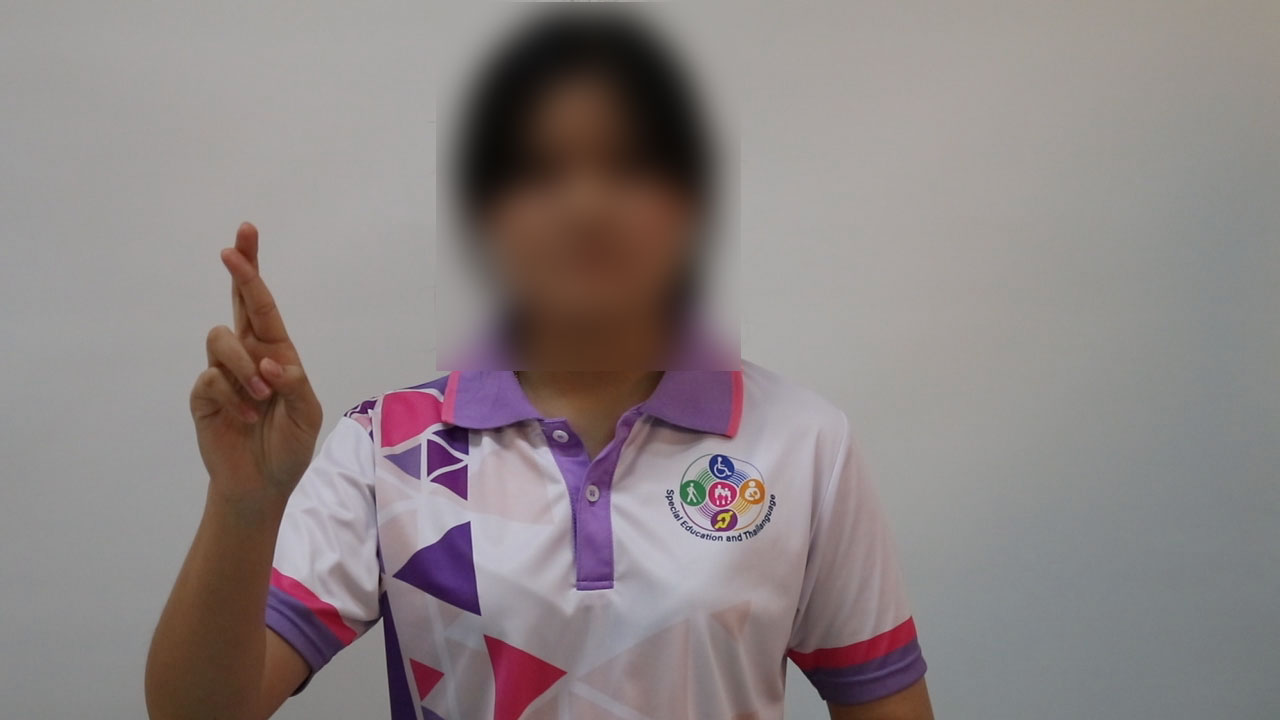rao: (168, 216, 328, 508)
